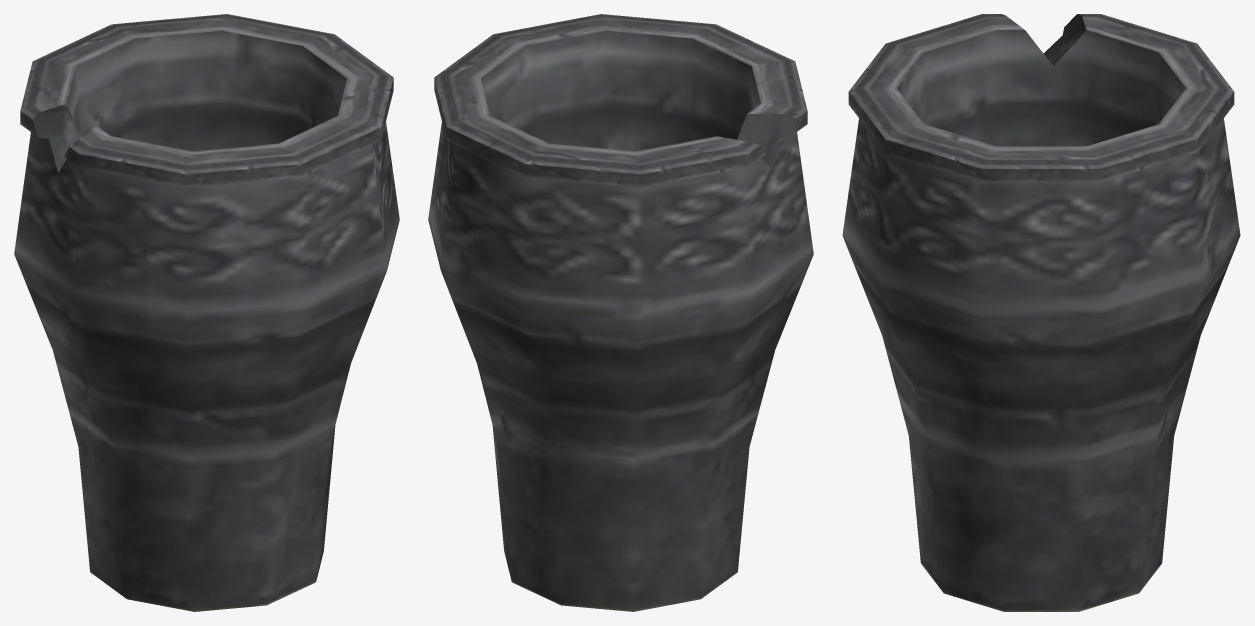
The model's file is vase-04.fbx.
The picture shows the model from 3 angles, left to right: view 1: azimuth 30°, elevation 25°; view 2: azimuth 150°, elevation 25°; view 3: azimuth 270°, elevation 25°; orthographic projection.
Visible parts, largest first — view 1: Cylinder.085; view 2: Cylinder.085; view 3: Cylinder.085.
Part boxes in pixels (x1,y1,x2,y2): Cylinder.085: [14, 14, 399, 611]; Cylinder.085: [428, 14, 813, 611]; Cylinder.085: [842, 14, 1240, 611].
Size of the model in its own units: 0.6277 by 0.8694 by 0.66.
